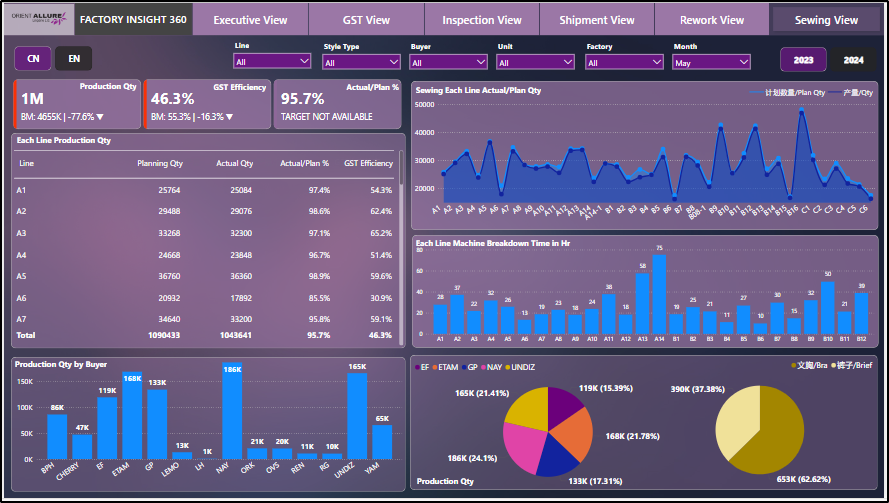

This screenshot's page, from the dashboard's own definition file:
{"tool":"powerbi","page":{"name":"Sewing View","canvas":[1920,1080],"ordinal":6},"visuals":[{"type":"shape","title":"Navigation Panel Background Shape","box":[0,0,1920,70.6],"z":0,"group":"g8"},{"type":"shape","title":"back","box":[0,2.8,153.1,68.1],"z":0,"group":"g9"},{"type":"slicer","fields":{"Values":["dim_date.month"]},"box":[1449.3,78.1,190.2,74],"z":0,"group":"g10"},{"type":"group","id":"g1","title":"KPI","box":[15.3,161.5,859.6,120],"z":0},{"type":"cardVisual","fields":{"Data":["Key Measures.production_qty_output","Key Measures.GST生产效率","Key Measures.planvsActualRatio"]},"box":[15.3,161.5,859.6,120],"z":0,"group":"g1"},{"type":"shape","title":"back","box":[888.2,170.6,1019.8,325.1],"z":0,"group":"g5"},{"type":"shape","title":"back","box":[14.6,282.8,861.3,469.8],"z":0,"group":"g3"},{"type":"shape","title":"back","box":[891.2,506.7,1017.9,245.9],"z":0,"group":"g6"},{"type":"shape","title":"back","box":[886.5,768.3,1020.5,294.6],"z":0,"group":"g7"},{"type":"shape","title":"back","box":[14.9,772,861,294],"z":0,"group":"g2"},{"type":"image","title":"logo","box":[4.3,0,143.7,68.6],"z":1000,"group":"g9"},{"type":"actionButton","title":"Executive View Icon","box":[412.4,0,250.9,70.2],"z":1000,"group":"g8"},{"type":"slicer","fields":{"Values":["dim_style_type.style_type"]},"box":[684.9,78.1,190.2,74],"z":1000,"group":"g10"},{"type":"actionButton","title":"title","box":[155.6,163.3,138.5,33.2],"z":1000,"group":"g1"},{"type":"areaChart","fields":{"Category":["dim_line.line"],"Y":["Key Measures.planning_qty","Key Measures.production_qty_output"]},"box":[890.2,173.6,1016.2,325.3],"z":1000,"group":"g5"},{"type":"pivotTable","fields":{"Rows":["dim_line.line"],"Values":["Key Measures.planning_qty","Key Measures.production_qty_output","Key Measures.variance %","Key Measures.GST生产效率"]},"box":[16.2,315.2,858.9,435.8],"z":1000,"group":"g3"},{"type":"lineStackedColumnComboChart","fields":{"Category":["dim_line.line"],"Y":["Key Measures.machineDownTime"]},"box":[896.4,512.6,1010.7,239.1],"z":1000,"group":"g6"},{"type":"group","id":"g2","title":"buyer ways qty column chart","box":[14.9,769.4,861,296.8],"z":1000},{"type":"columnChart","fields":{"Category":["dim_buyer.buyer"],"Y":["Key Measures.production_qty_output"]},"box":[22.4,769.4,852.4,296.8],"z":1000,"group":"g2"},{"type":"pieChart","fields":{"Category":["dim_buyer.buyer"],"Y":["Key Measures.production_qty_output"]},"box":[890.8,772.7,593.1,294.6],"z":1000,"group":"g7"},{"type":"actionButton","title":"Overshipment View","box":[1169.3,0,248.7,70.2],"z":2000,"group":"g8"},{"type":"slicer","fields":{"Values":["dim_buyer.buyer"]},"box":[875.1,78.1,190.2,74],"z":2000,"group":"g10"},{"type":"actionButton","title":"title","box":[443.6,165.2,132.9,33.2],"z":2000,"group":"g1"},{"type":"actionButton","title":"title","box":[894,172.5,289.9,35],"z":2000,"group":"g5"},{"type":"group","id":"g3","title":"production qty matrix","box":[14.6,281.3,861.3,471.3],"z":2000},{"type":"actionButton","title":"title","box":[22.3,281.3,234.2,35],"z":2000,"group":"g3"},{"type":"actionButton","title":"title","box":[896.6,507.2,359,32.6],"z":2000,"group":"g6"},{"type":"pieChart","fields":{"Category":["dim_style_type.style_type"],"Y":["Key Measures.production_qty_output"]},"box":[1395.3,767.5,510.2,294.6],"z":2000,"group":"g7"},{"type":"actionButton","title":"title","box":[18.7,769.4,213.1,35],"z":2000,"group":"g2"},{"type":"group","id":"g4","title":"Group 1","box":[17.3,328.3,842.9,44.2],"z":2500,"group":"g3"},{"type":"actionButton","title":"Inspection View Icon","box":[918.4,0,248.7,70.2],"z":3000,"group":"g8"},{"type":"slicer","fields":{"Values":["dim_factory.factory"]},"box":[1259.1,78.1,190.2,74],"z":3000,"group":"g10"},{"type":"actionButton","title":"title","box":[731.6,165.2,134.8,35.1],"z":3000,"group":"g1"},{"type":"group","id":"g5","title":"plan vs actual qty line","box":[888.2,170.6,1019.8,328.3],"z":3000},{"type":"actionButton","title":"title","box":[898,1024.8,163.2,34.6],"z":3000,"group":"g7"},{"type":"actionButton","title":"Sewing View Icon","box":[1668.9,0,250.9,70.2],"z":4000,"group":"g8"},{"type":"slicer","fields":{"Values":["dim_unit.unit"]},"box":[1065.3,78.1,190.2,74],"z":4000,"group":"g10"},{"type":"group","id":"g6","title":"machine downtime","box":[891.2,506.7,1017.9,245.9],"z":4000},{"type":"actionButton","title":"GST View Icon","box":[665.4,0,250.9,70.2],"z":5000,"group":"g8"},{"type":"advancedSlicerVisual","title":"Slicer year","fields":{"Values":["dim_date.year"]},"box":[1688.9,91.8,220.8,63.3],"z":5000,"group":"g10"},{"type":"group","id":"g7","title":"pie chart","box":[886.5,767.5,1020.5,299.8],"z":5000},{"type":"shape","title":"Orient Insight 360 Button","box":[155.2,0,255,70.2],"z":6000,"group":"g8"},{"type":"slicer","fields":{"Values":["dim_line.line"]},"box":[491.1,76.5,189.2,75],"z":6000,"group":"g10"},{"type":"card","fields":{"Values":["#lanMeasures.Sewing Matrix Line title"]},"box":[17.3,328.3,63.4,44.2],"z":6000,"group":"g4"},{"type":"group","id":"g8","title":"navigation panel","box":[0,0,1920,70.9],"z":7000},{"type":"group","id":"g9","title":"Orient logo","box":[0,0,153.1,70.9],"z":7000,"group":"g8"},{"type":"actionButton","title":"RR rate View icon","box":[1420.2,0,248.7,70.2],"z":8000,"group":"g8"},{"type":"group","id":"g10","title":"slicer panel","box":[491.1,76.5,1418.6,78.7],"z":8000},{"type":"advancedSlicerVisual","title":"Slicer year","fields":{"Values":["#lan-slicer.Lan"]},"box":[18.1,89,181.1,63],"z":9000},{"type":"card","fields":{"Values":["#lanMeasures.Sewing Matrix Plan Qty Col Header title"]},"box":[284.2,328.3,113.3,44.2],"z":10000,"group":"g4"},{"type":"card","fields":{"Values":["#lanMeasures.Sewing Matrix Actual Qty Col Header title"]},"box":[457,328.3,90.2,44.2],"z":11000,"group":"g4"},{"type":"card","fields":{"Values":["#lanMeasures.Sewing Matrix Actual vs Plan % Col Header title"]},"box":[591.4,328.3,128.6,44.2],"z":12000,"group":"g4"},{"type":"card","fields":{"Values":["#lanMeasures.Sewing GST Eff Col Header title"]},"box":[731.5,328.3,128.6,44.2],"z":13000,"group":"g4"}]}

Visuals, with their boxes in screenshot pixels (x1, y1, x2, y2), scaled from the page's 1920x1080 canvas onto the 889x503 screenshot:
"Navigation Panel Background Shape" shape: box(0, 0, 888, 33)
"back" shape: box(0, 1, 71, 33)
slicer - dim_date.month: box(671, 36, 759, 71)
"KPI" group: box(7, 75, 405, 131)
cardVisual - Key Measures.production_qty_output x Key Measures.GST生产效率: box(7, 75, 405, 131)
"back" shape: box(411, 79, 883, 231)
"back" shape: box(7, 132, 406, 351)
"back" shape: box(413, 236, 884, 351)
"back" shape: box(410, 358, 883, 495)
"back" shape: box(7, 360, 406, 496)
"logo" image: box(2, 0, 69, 32)
"Executive View Icon" actionButton: box(191, 0, 307, 33)
slicer - dim_style_type.style_type: box(317, 36, 405, 71)
"title" actionButton: box(72, 76, 136, 92)
areaChart - dim_line.line x Key Measures.planning_qty: box(412, 81, 883, 232)
pivotTable - dim_line.line x Key Measures.planning_qty: box(8, 147, 405, 350)
lineStackedColumnComboChart - dim_line.line x Key Measures.machineDownTime: box(415, 239, 883, 350)
"buyer ways qty column chart" group: box(7, 358, 406, 497)
columnChart - dim_buyer.buyer x Key Measures.production_qty_output: box(10, 358, 405, 497)
pieChart - dim_buyer.buyer x Key Measures.production_qty_output: box(412, 360, 687, 497)
"Overshipment View" actionButton: box(541, 0, 657, 33)
slicer - dim_buyer.buyer: box(405, 36, 493, 71)
"title" actionButton: box(205, 77, 267, 92)
"title" actionButton: box(414, 80, 548, 97)
"production qty matrix" group: box(7, 131, 406, 351)
"title" actionButton: box(10, 131, 119, 147)
"title" actionButton: box(415, 236, 581, 251)
pieChart - dim_style_type.style_type x Key Measures.production_qty_output: box(646, 357, 882, 495)
"title" actionButton: box(9, 358, 107, 375)
"Group 1" group: box(8, 153, 398, 173)
"Inspection View Icon" actionButton: box(425, 0, 540, 33)
slicer - dim_factory.factory: box(583, 36, 671, 71)
"title" actionButton: box(339, 77, 401, 93)
"plan vs actual qty line" group: box(411, 79, 883, 232)
"title" actionButton: box(416, 477, 491, 493)
"Sewing View Icon" actionButton: box(773, 0, 888, 33)
slicer - dim_unit.unit: box(493, 36, 581, 71)
"machine downtime" group: box(413, 236, 884, 351)
"GST View Icon" actionButton: box(308, 0, 424, 33)
"Slicer year" advancedSlicerVisual: box(782, 43, 884, 72)
"pie chart" group: box(410, 357, 883, 497)
"Orient Insight 360 Button" shape: box(72, 0, 190, 33)
slicer - dim_line.line: box(227, 36, 315, 71)
card - #lanMeasures.Sewing Matrix Line title: box(8, 153, 37, 173)
"navigation panel" group: box(0, 0, 888, 33)
"Orient logo" group: box(0, 0, 71, 33)
"RR rate View icon" actionButton: box(658, 0, 773, 33)
"slicer panel" group: box(227, 36, 884, 72)
"Slicer year" advancedSlicerVisual: box(8, 41, 92, 71)
card - #lanMeasures.Sewing Matrix Plan Qty Col Header title: box(132, 153, 184, 173)
card - #lanMeasures.Sewing Matrix Actual Qty Col Header title: box(212, 153, 253, 173)
card - #lanMeasures.Sewing Matrix Actual vs Plan % Col Header title: box(274, 153, 333, 173)
card - #lanMeasures.Sewing GST Eff Col Header title: box(339, 153, 398, 173)
